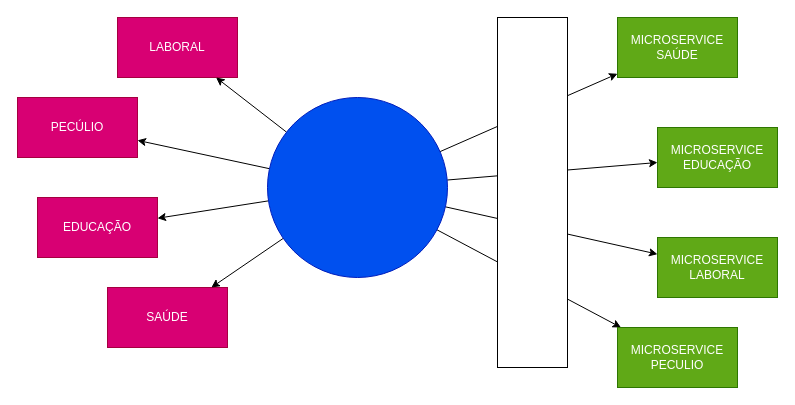
The diagram is 795 pixels wide and 405 high, and some of its shapes have lost their labels. The box of each missing label's shape, as (x1, y1, x2, y2) in pixels:
GATWAY: (496, 16, 568, 368)
UI SuperSagep: (266, 96, 448, 278)
